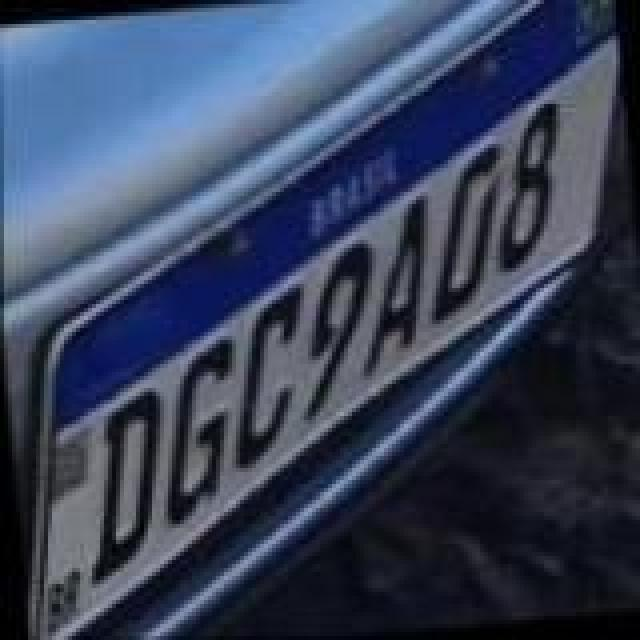8: (482, 96, 574, 272)
9: (286, 240, 390, 428)
A: (344, 194, 444, 382)
C: (216, 278, 316, 470)
D: (70, 390, 178, 594), (410, 144, 518, 328)
G: (148, 334, 252, 530)
